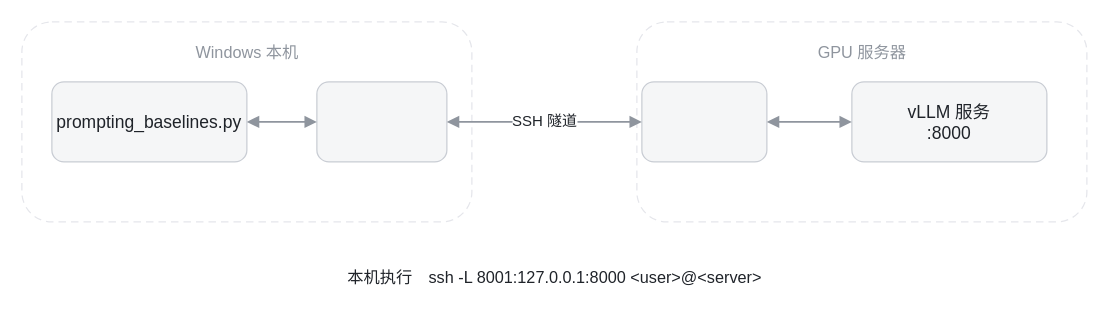
The diagram is 1109 pixels wide and 314 high, and some of its shapes have lost their labels. The box of each missing label's shape, as (x1, y1, x2, y2) in pixels:
ssh 客户端 :8001: (316, 81, 447, 162)
sshd: (641, 81, 767, 162)
